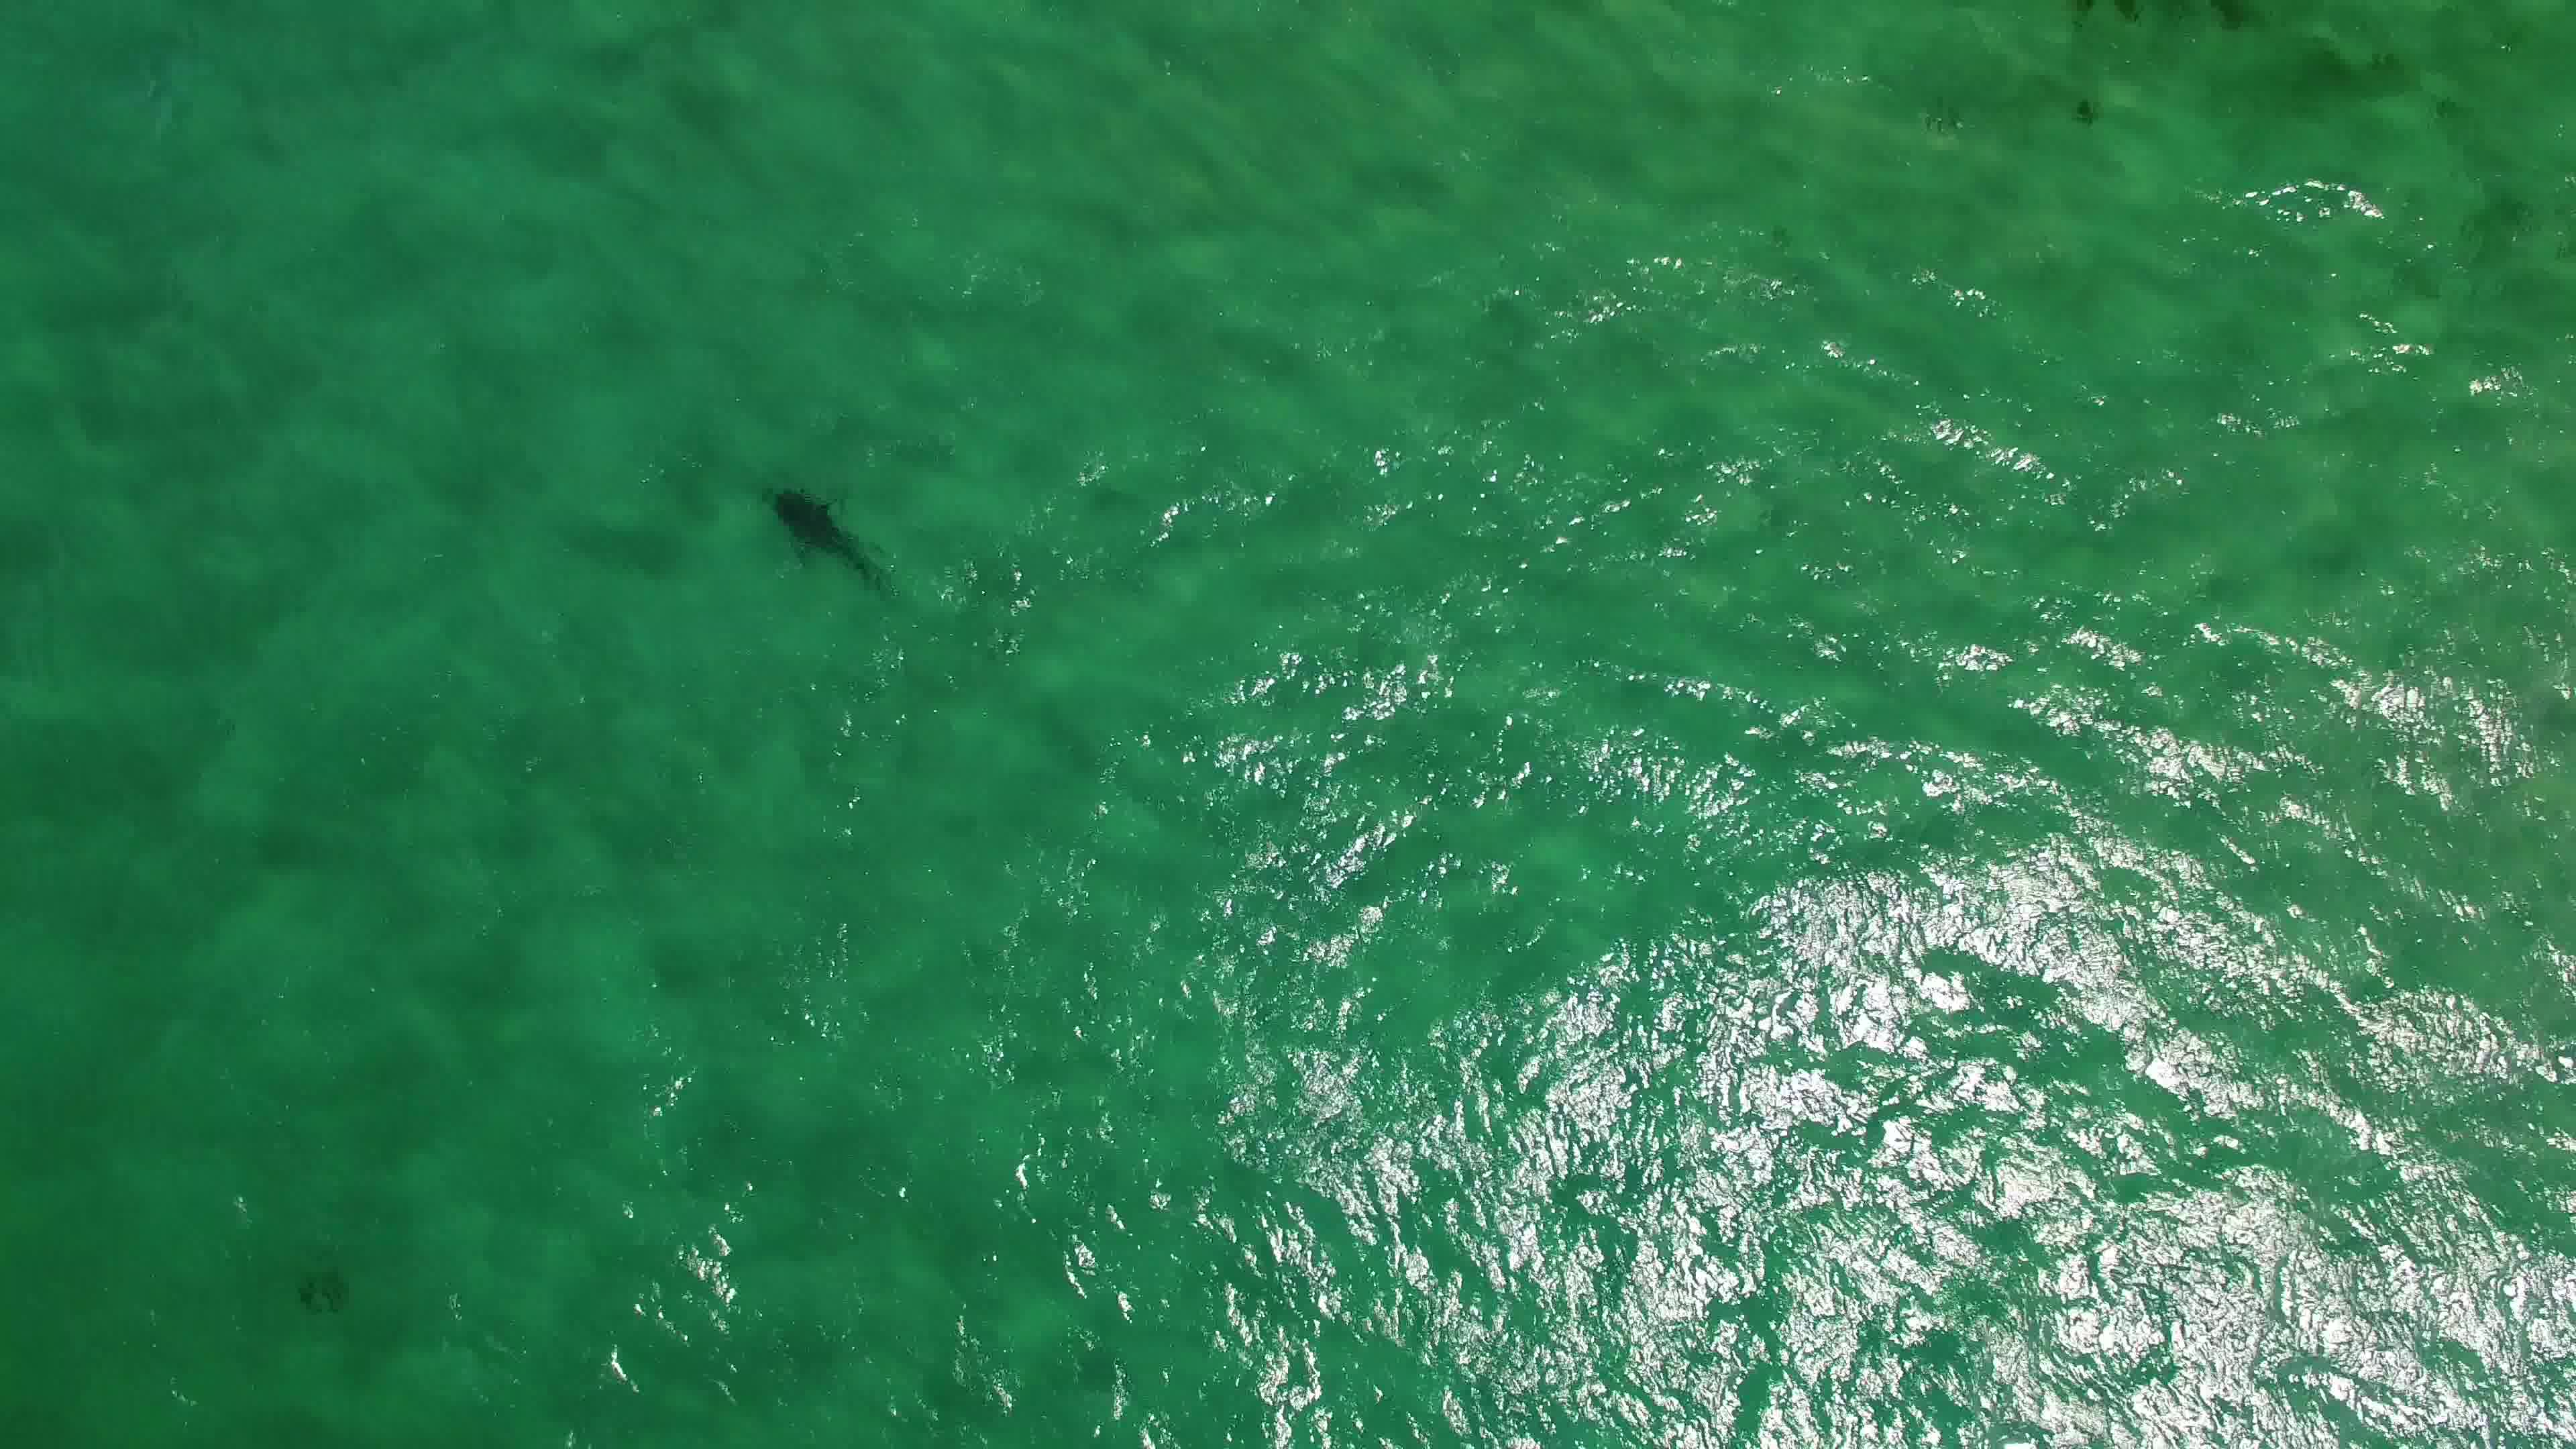shark: (768, 481, 902, 602)
